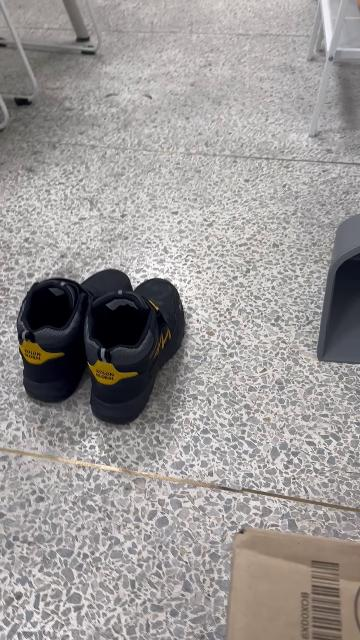shoe_worn: (17, 266, 132, 405), (88, 275, 187, 424)
